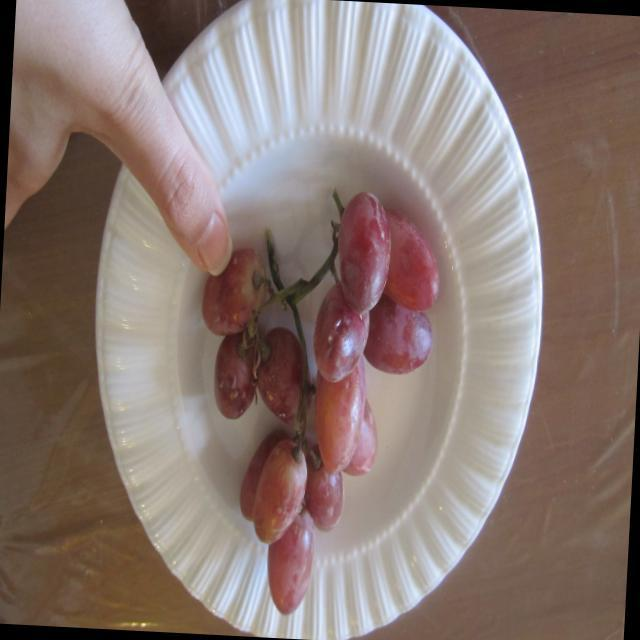Finger: (142, 129, 244, 282)
Grapes: (213, 162, 452, 630)
